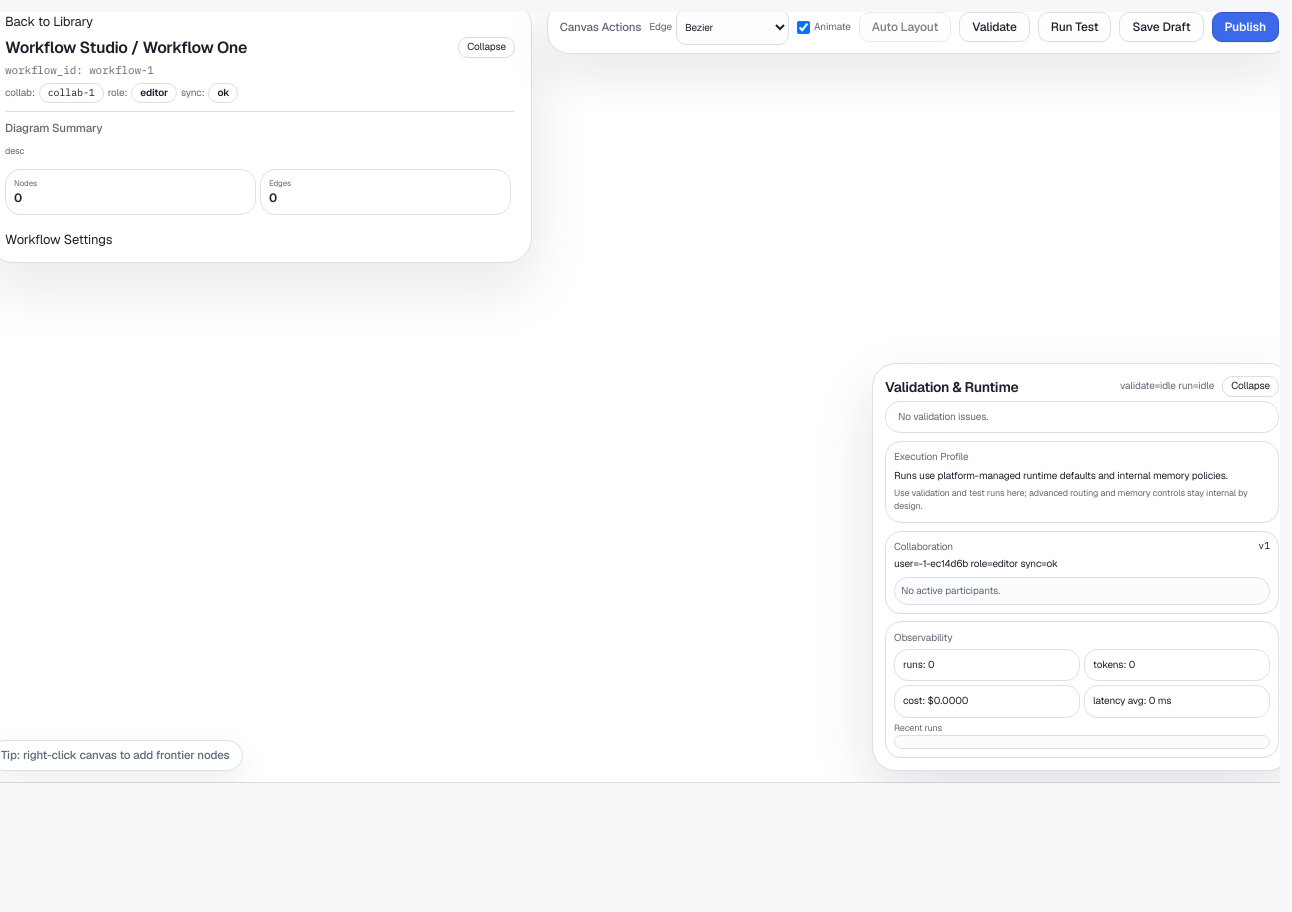
Test: StudioFullCanvas › collapses everything below the header divider
Expected: the text "Workflow Settings" is shown, [5, 231, 112, 248]
Expected: the text "Diagram Summary" is shown, [5, 120, 102, 136]
Click the button with aria-label "collapse header details panel". click: click(487, 47)
box: [458, 37, 515, 58]
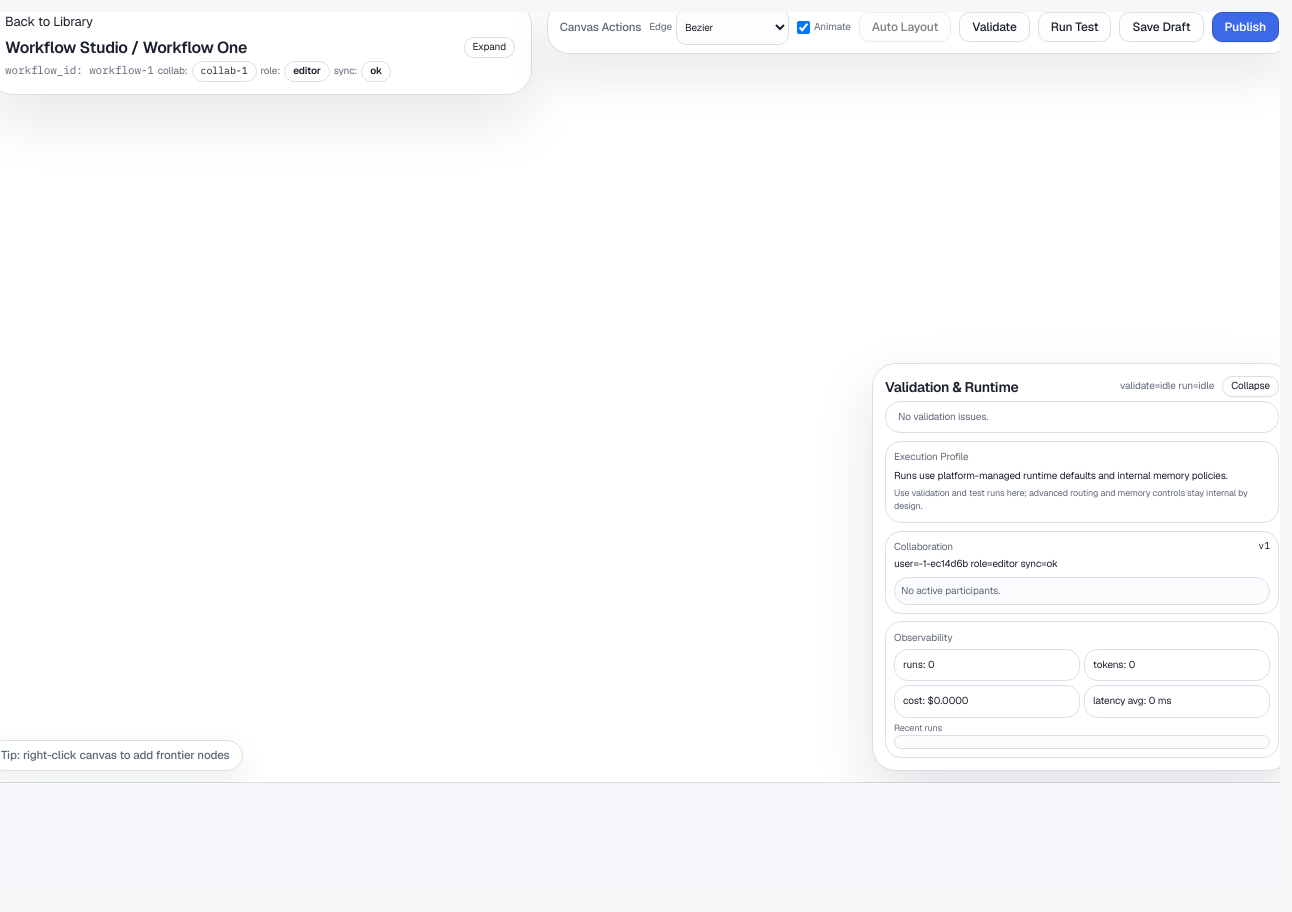
Now the text "Workflow Settings" is gone
Now the text "Diagram Summary" is gone
Now the button with aria-label "expand header details panel" is shown, box [464, 37, 515, 58]
